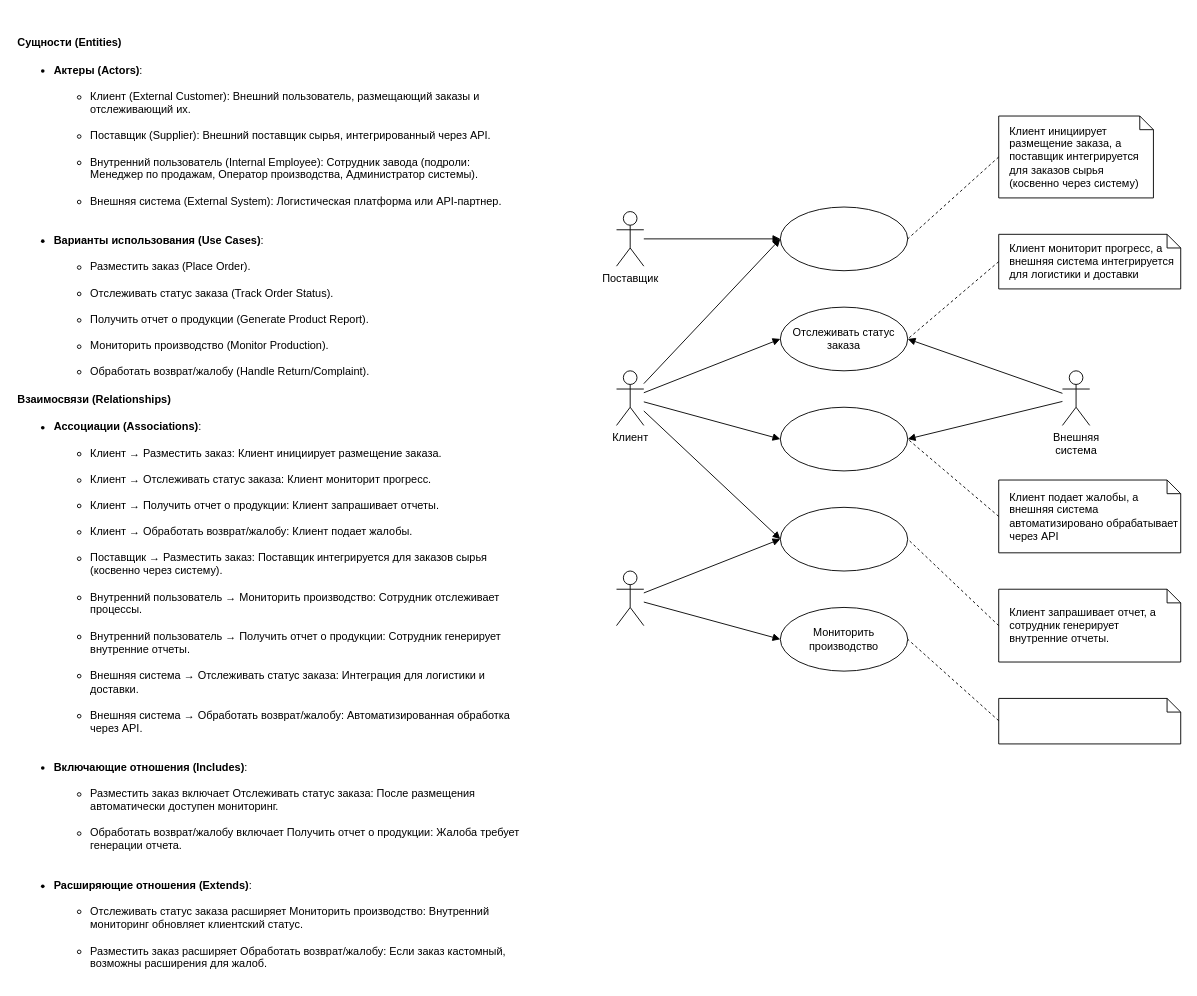
Image size: 1197x996. Some labels were removed from this diagram. The centre of each missing label's shape, as x and y in pixels:
"Внутренний пользователь" belongs at [630,598].
"Обработать возврат / жалобу" belongs at [843,438].
"Получить отчет о продукции" belongs at [843,538].
"Разместить заказ" belongs at [843,238].
"Сотрудник отслеживает процессы" belongs at [1089,721].
